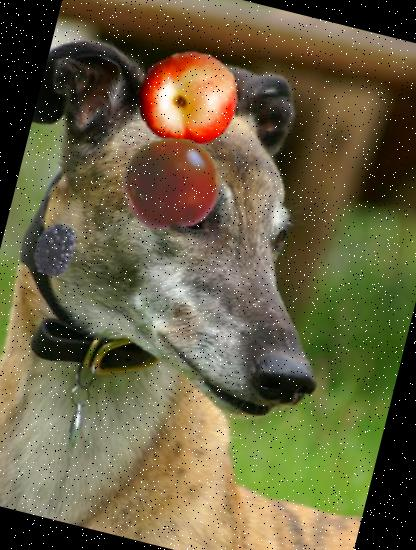Mulberry: (22, 216, 89, 283)
Nectarine: (126, 38, 250, 162)
Tomato: (112, 124, 232, 244)
